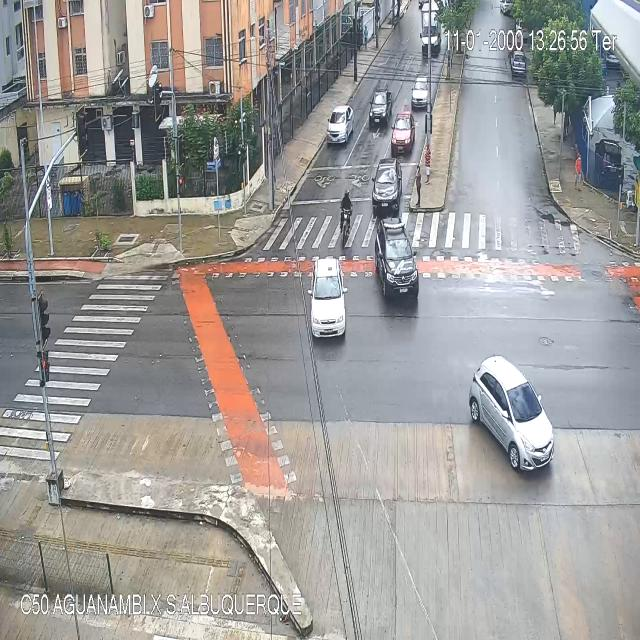Car: (468, 356, 555, 470), (376, 216, 419, 300), (309, 255, 346, 342), (327, 104, 353, 144), (392, 110, 414, 155), (369, 89, 392, 127), (412, 76, 428, 108), (511, 53, 526, 74)
Motorcycle: (373, 160, 402, 213), (339, 189, 353, 250)
Truck: (421, 8, 442, 56)
